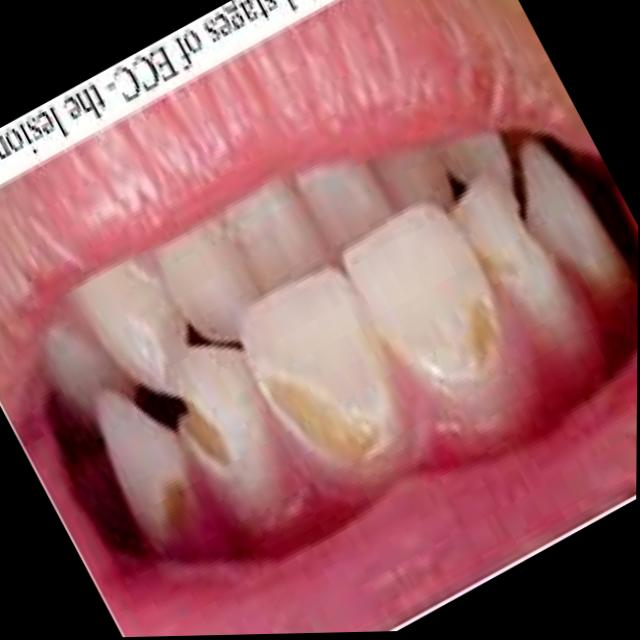cariess: (180, 349, 297, 517), (260, 371, 400, 476), (334, 423, 374, 463)
